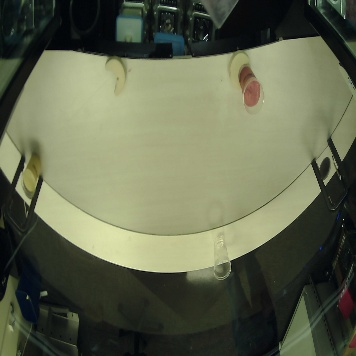empty_cup: (211, 232, 235, 283)
full_cup: (237, 62, 267, 116), (21, 149, 46, 201)
puck: (105, 54, 130, 97), (228, 50, 253, 92)
